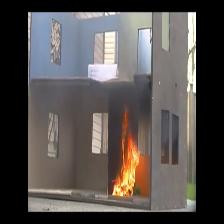fire: (112, 137, 150, 201)
